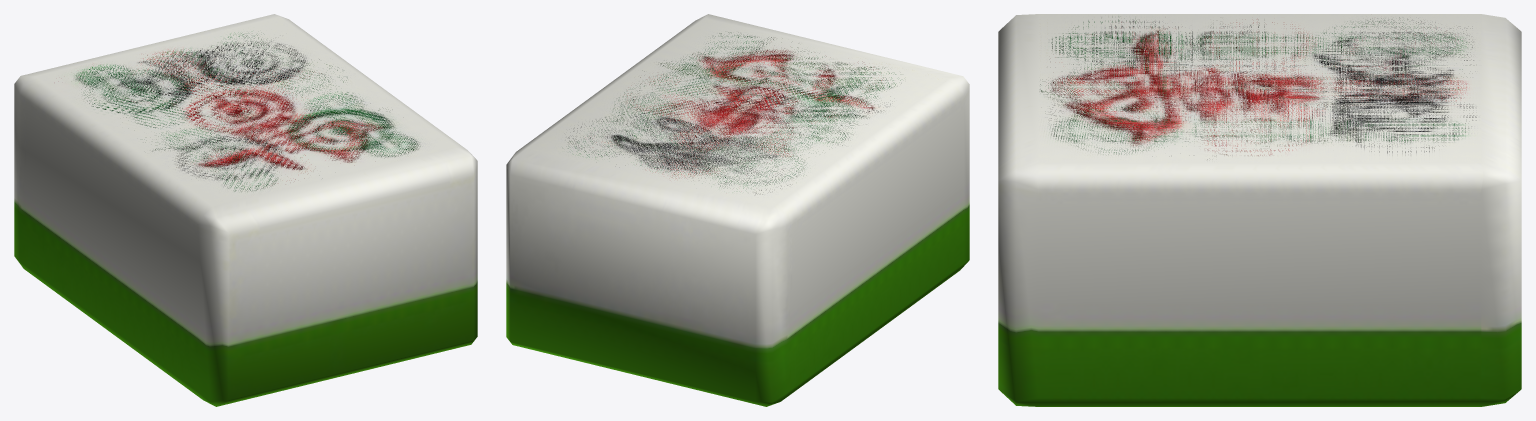
The model's file is mahjong.FBX.
The picture shows the model from 3 angles, left to right: view 1: azimuth 30°, elevation 25°; view 2: azimuth 150°, elevation 25°; view 3: azimuth 270°, elevation 25°; orthographic projection. The views are drawn at different scales.
Visible parts, largest first — view 1: Wind_South, Bam_7, Dot_5, Crak_9, Crak_4, Wind_East, Dragon_Red, Bam_5, Crak_1, Wind_West, Dragon_Green, Bam_3 (+13 smaller); view 2: Flower_1, Season_2, Bam_7, Flower_4, Crak_7, Crak_1, Flower_2, Bam_5, Crak_3, Dot_1, Crak_8, Crak_5 (+14 smaller); view 3: Crak_1, Bam_1, Crak_9, Crak_4, Crak_3, Bam_9, Dot_1, Crak_8, Dot_2, Wind_South, Season_2, Dot_9 (+15 smaller).
Part boxes in pixels (box(x1,y1,x2,y2)): Wind_South: box(221, 17, 476, 399); Bam_7: box(14, 32, 278, 399); Dot_5: box(61, 18, 455, 206); Crak_9: box(36, 22, 471, 406); Crak_4: box(43, 20, 471, 216); Wind_East: box(220, 161, 473, 404); Dragon_Red: box(116, 20, 473, 398); Bam_5: box(35, 32, 455, 205); Crak_1: box(113, 18, 471, 222); Wind_West: box(39, 26, 473, 397); Dragon_Green: box(36, 86, 367, 404); Bam_3: box(115, 17, 388, 189); Flower_1: box(506, 47, 938, 401); Season_2: box(507, 21, 905, 399); Bam_7: box(646, 24, 963, 406); Flower_4: box(510, 37, 895, 401); Crak_7: box(527, 14, 830, 195); Crak_1: box(546, 14, 959, 192); Flower_2: box(510, 149, 765, 406); Bam_5: box(536, 19, 910, 177); Crak_3: box(529, 15, 960, 199); Dot_1: box(544, 24, 931, 182); Crak_8: box(582, 15, 969, 268); Crak_5: box(602, 15, 924, 207); Crak_1: box(1010, 14, 1482, 402); Bam_1: box(1037, 14, 1481, 402); Crak_9: box(1011, 14, 1481, 165); Crak_4: box(1010, 14, 1481, 172); Crak_3: box(1010, 14, 1481, 166); Bam_9: box(1038, 14, 1481, 162); Dot_1: box(1038, 14, 1481, 402); Crak_8: box(1010, 17, 1481, 169); Dot_2: box(1013, 15, 1483, 406); Wind_South: box(998, 21, 1521, 406); Season_2: box(1038, 14, 1521, 406); Dot_9: box(1038, 14, 1480, 162).
Bounding box in the file's own units: 0.7512 × 0.5126 × 0.9971.
